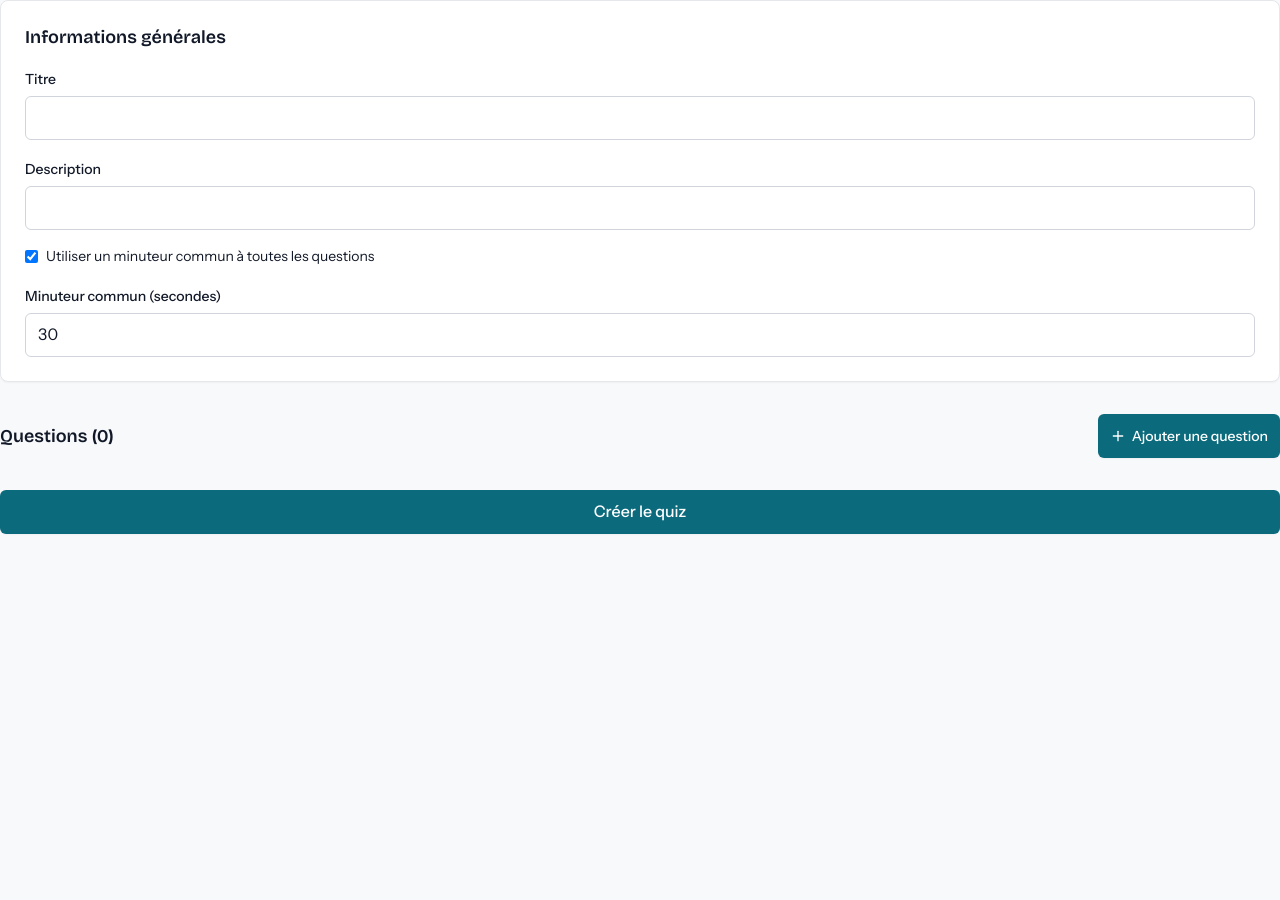
Test: QuizForm : types de questions (backend #7) › remettre dans l’ordre : au moins 3 options
The width and height of the screenshot is (1280, 900).
Step 1. Type "Quiz de test" into the field labelled "Titre" → (640, 118), box [25,96,1255,140]
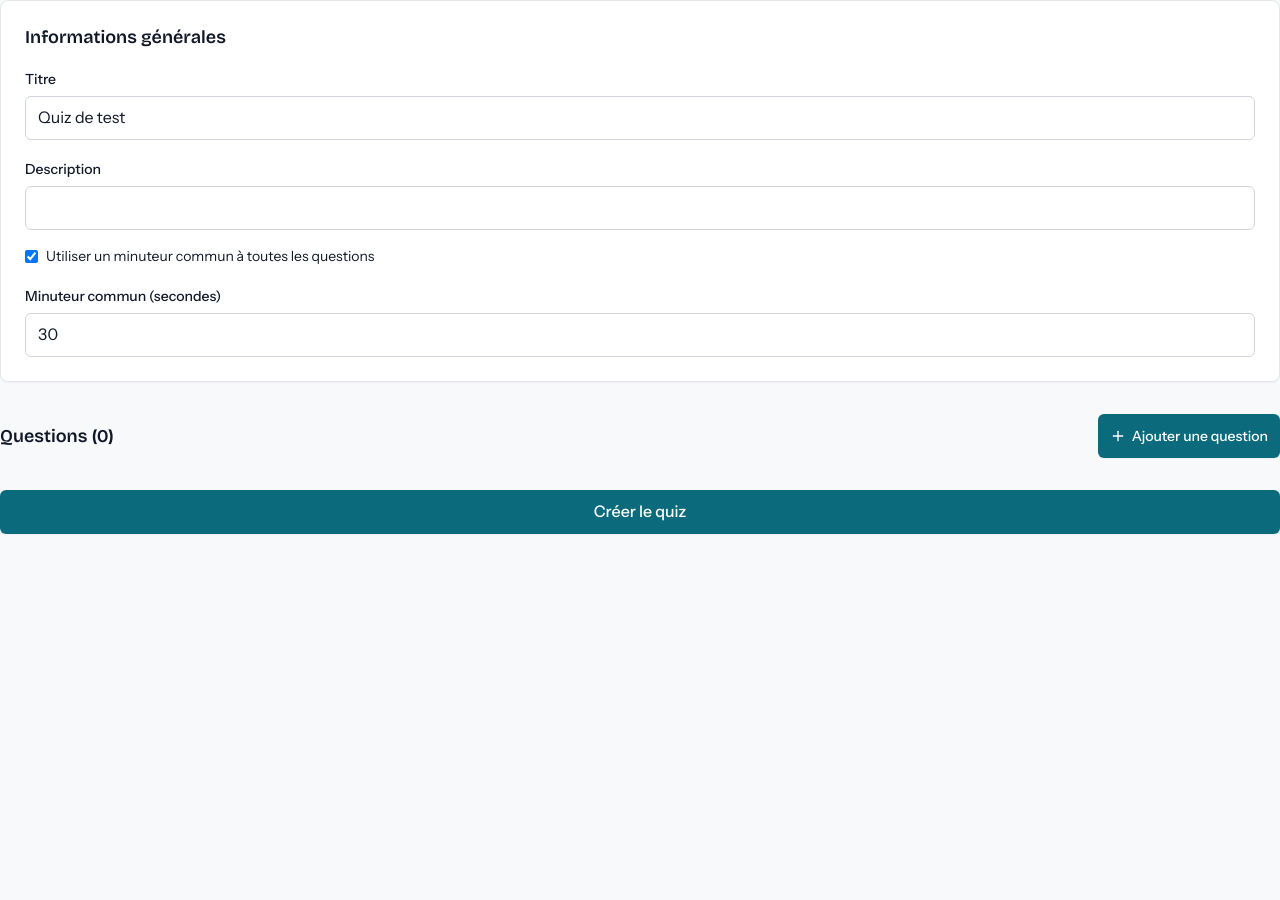
Step 2. Click the button "Ajouter une question" → (1189, 436), box [1098,414,1279,458]
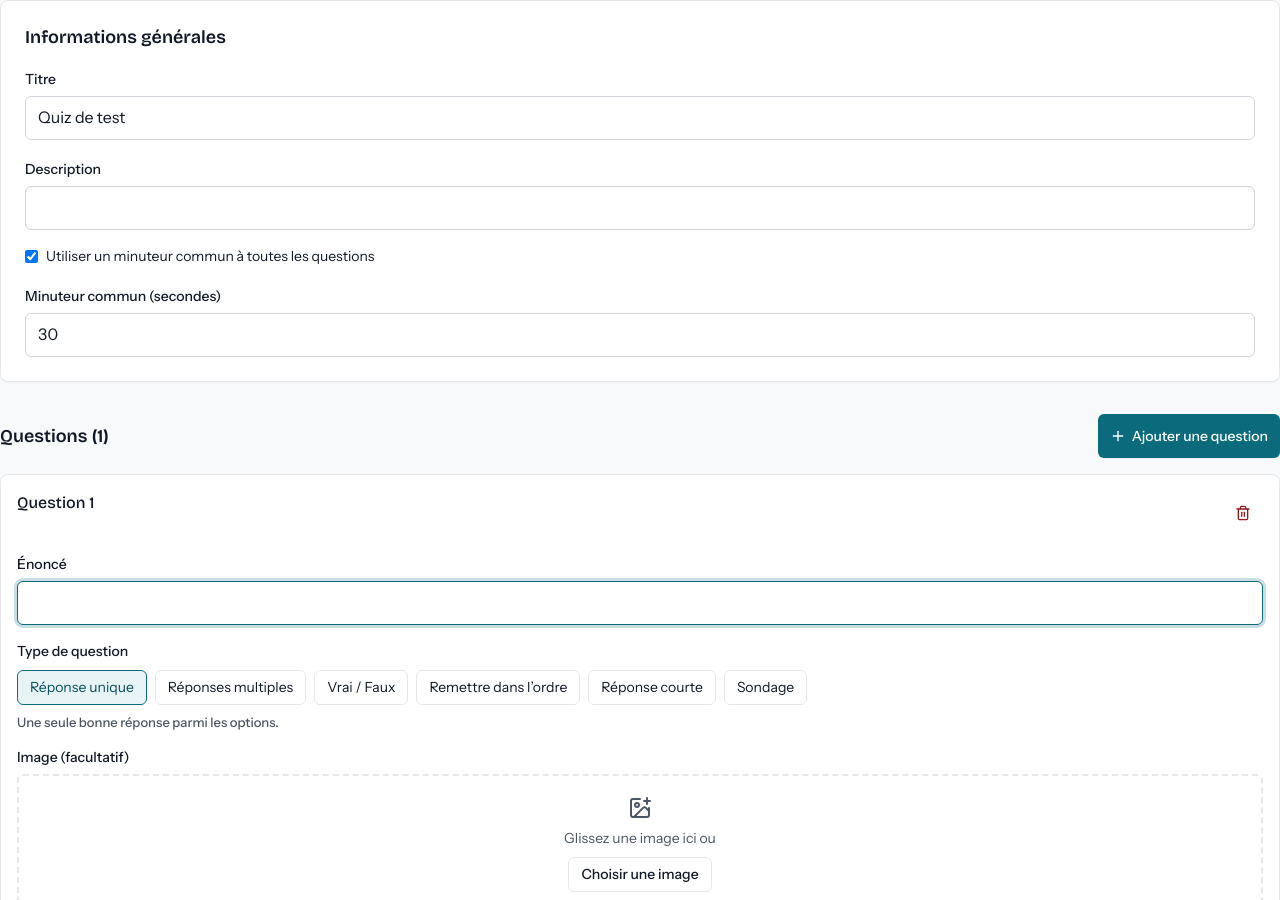
Step 3. Type "Ordre" into the field labelled "Énoncé" → (640, 603), box [17,581,1263,625]
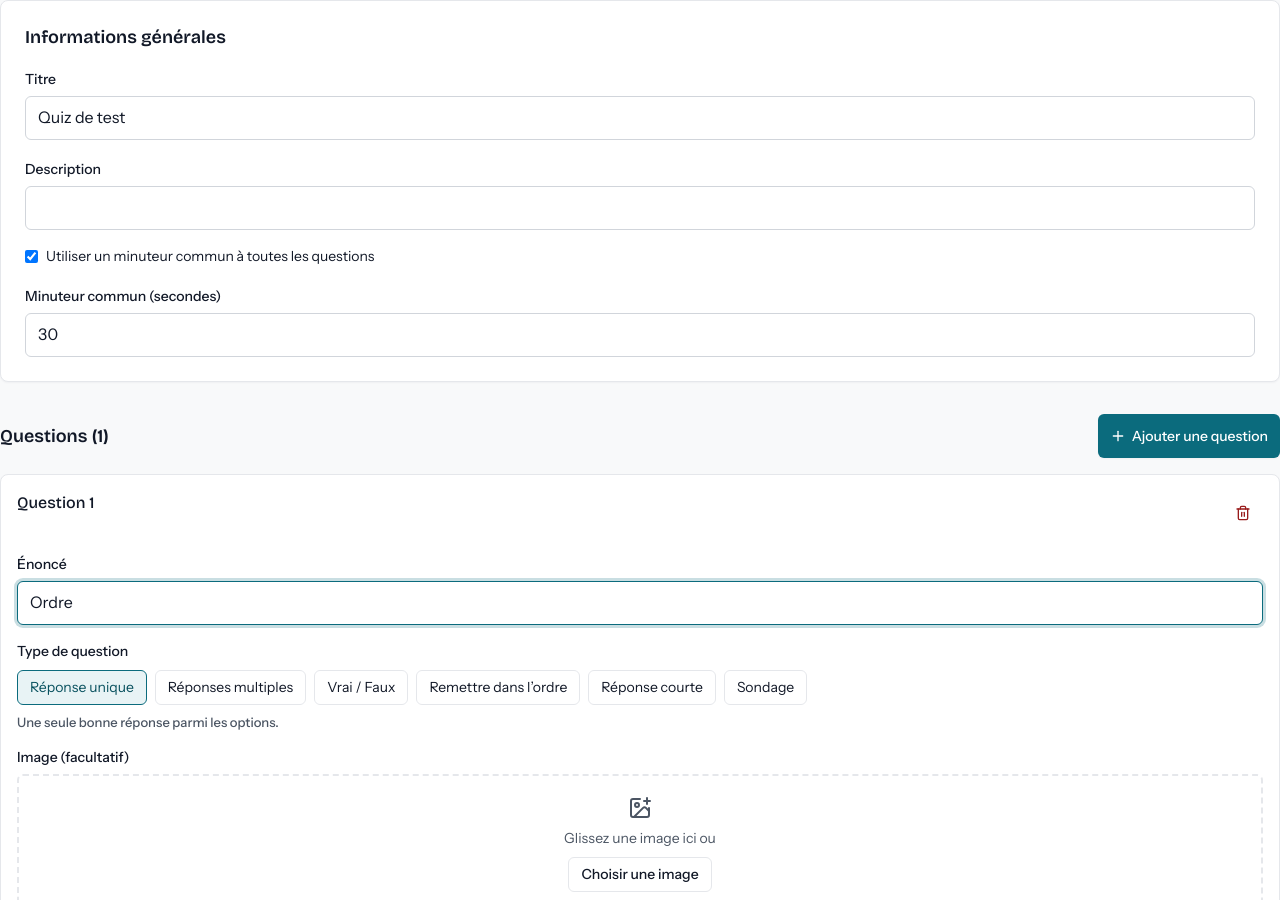
Step 4. Click the radio button labelled "Remettre dans l’ordre" → (498, 688), box [416,670,580,705]
(page scrolled)
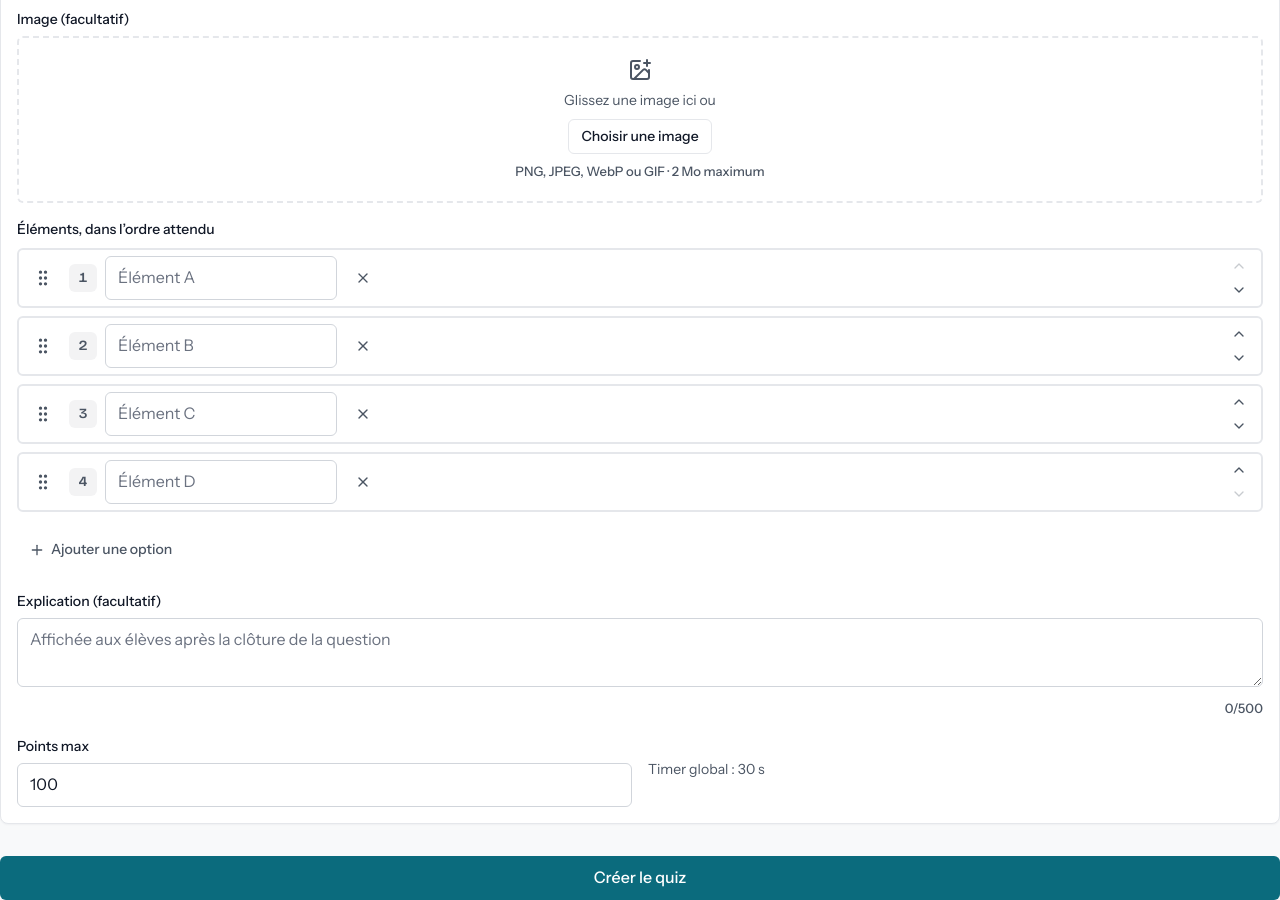
Step 5. Click the button named "Supprimer l'option D" → (363, 482), box [345,464,381,500]
(page scrolled)
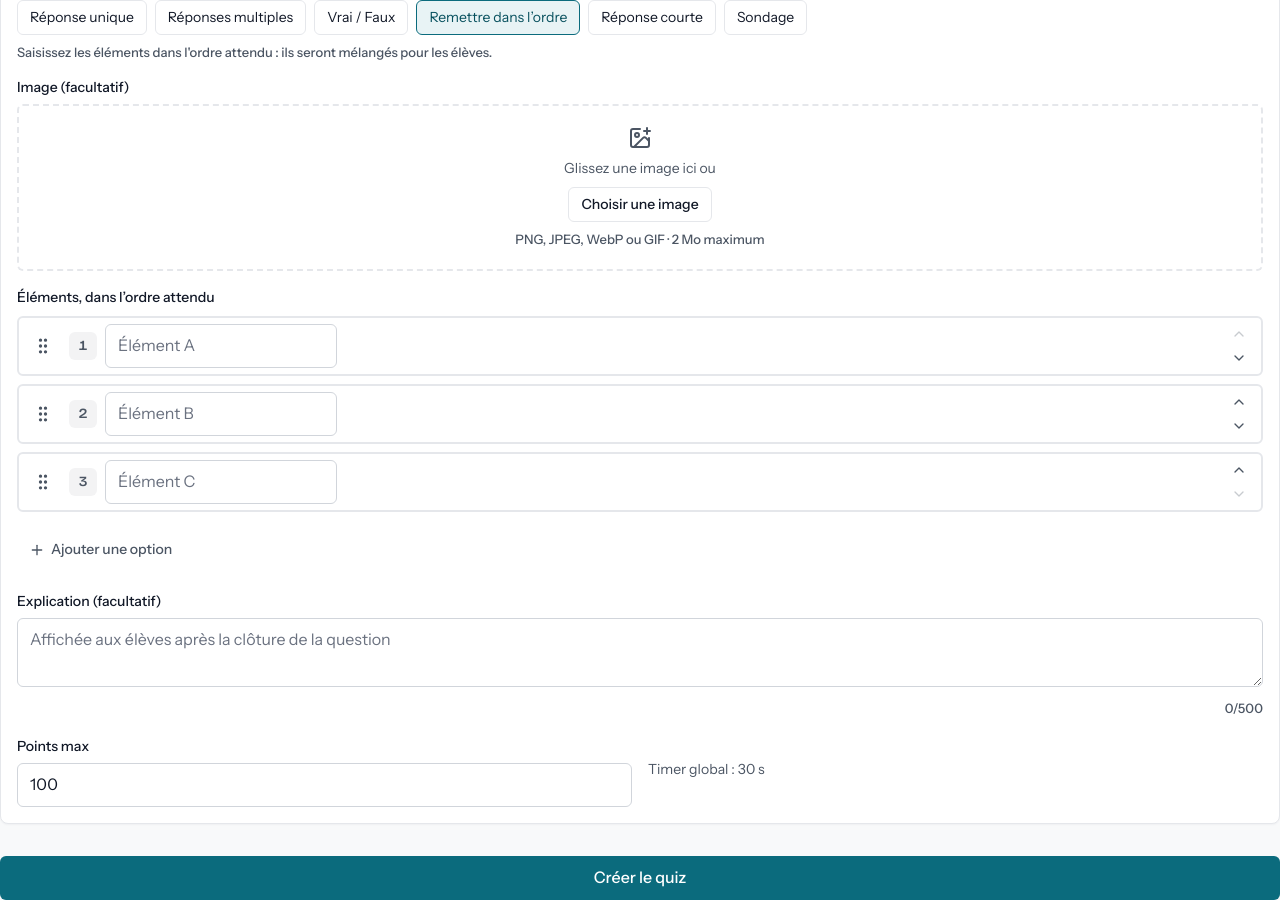
Step 6. Click the button "Créer le quiz" → (640, 878), box [0,856,1279,899]
(page scrolled)
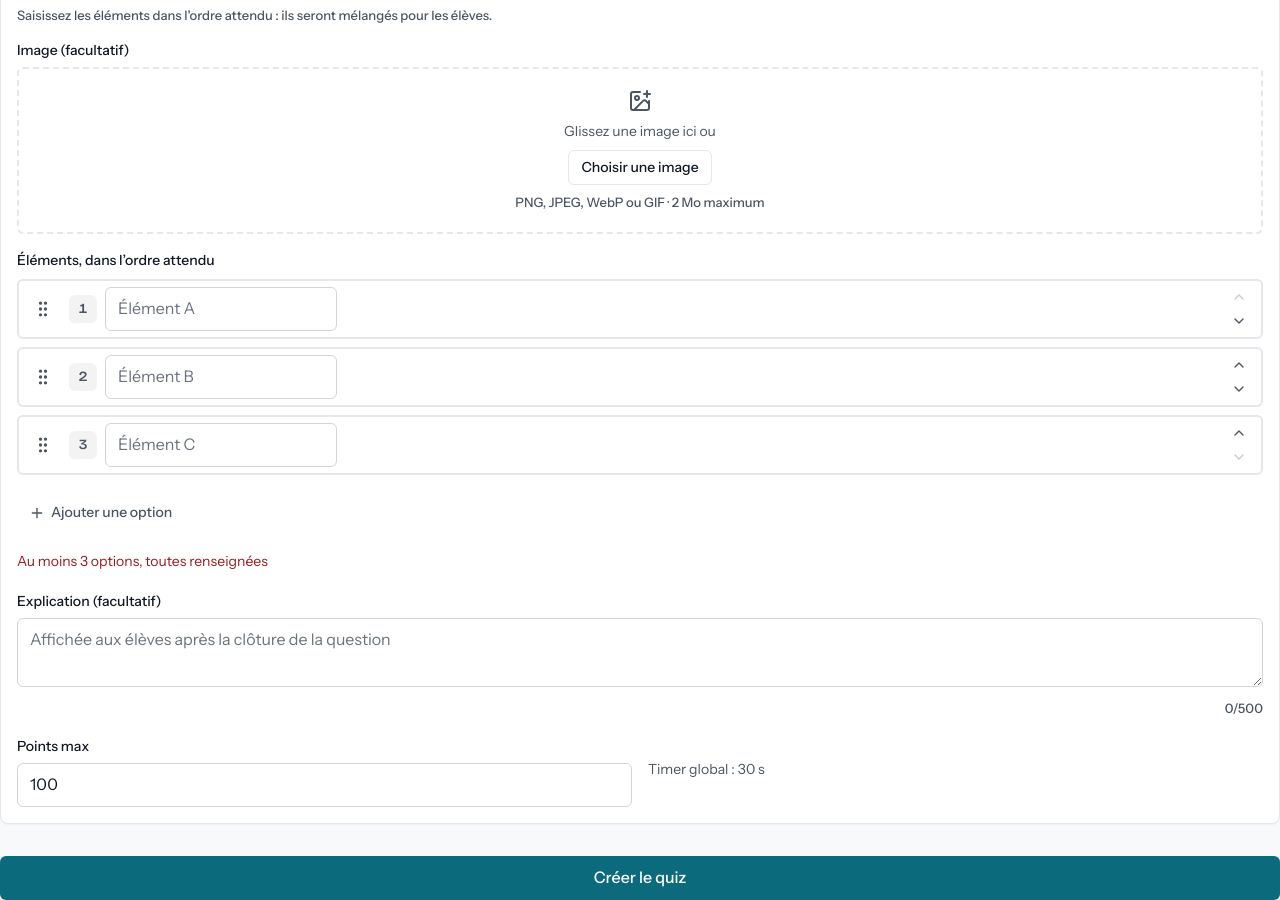
Now the text "Au moins 3 options, toutes renseignées" is shown, box [17,552,268,570]
